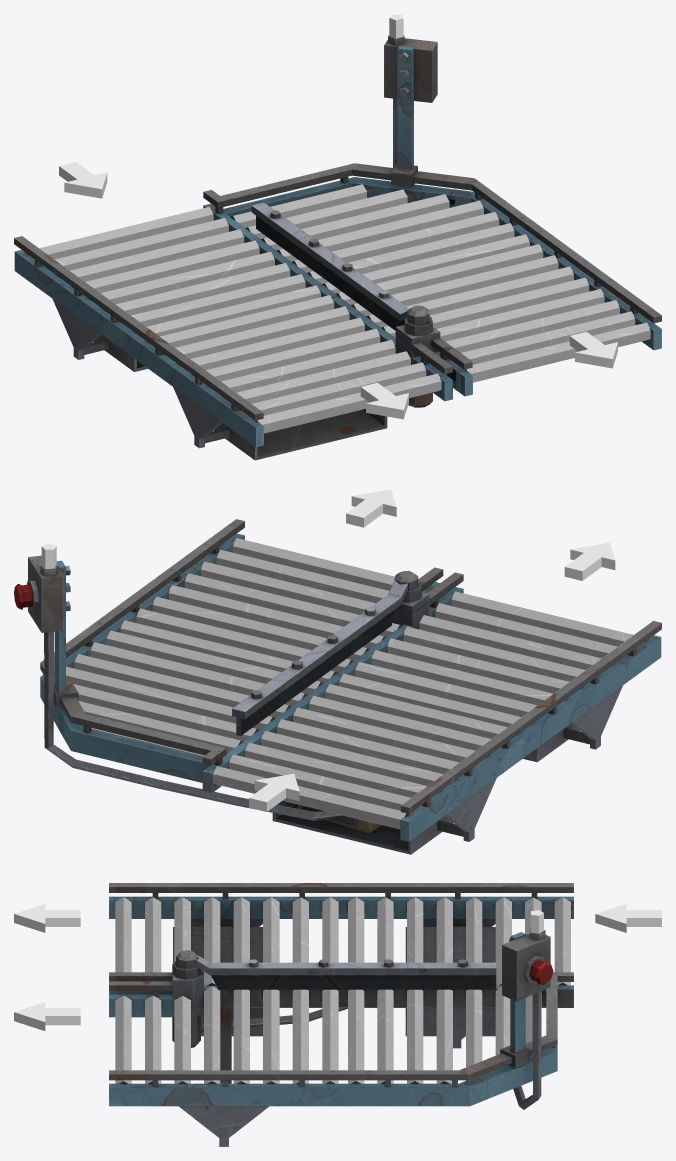
The model's file is RollerConveyorRouting_Left.glb.
3 renders of one model, top to bottom at view 1: azimuth 30°, elevation 25°; view 2: azimuth 150°, elevation 25°; view 3: azimuth 270°, elevation 25°, orthographic. The views are drawn at different scales.
Parts seen in each view (by area): view 1: RollerRoutingLeft, RollerRoutingLeft_Wiper, ghostarrow (1), ghostarrow, ghostarrow (2); view 2: RollerRoutingLeft, RollerRoutingLeft_Wiper, ghostarrow, ghostarrow (2), ghostarrow (1); view 3: RollerRoutingLeft, RollerRoutingLeft_Wiper, ghostarrow (2), ghostarrow, ghostarrow (1), RollerRoutingLeftButton.
Part boxes in pixels (x1,y1,x2,y2): RollerRoutingLeft: (14, 14, 661, 460); RollerRoutingLeft_Wiper: (251, 202, 429, 330); ghostarrow (1): (59, 162, 107, 198); ghostarrow: (360, 382, 408, 419); ghostarrow (2): (569, 332, 617, 368); RollerRoutingLeft: (27, 519, 661, 854); RollerRoutingLeft_Wiper: (232, 571, 418, 735); ghostarrow: (564, 542, 615, 580); ghostarrow (2): (346, 489, 396, 527); ghostarrow (1): (249, 773, 299, 811); RollerRoutingLeft: (109, 883, 573, 1146); RollerRoutingLeft_Wiper: (176, 950, 496, 989); ghostarrow (2): (14, 1002, 80, 1030); ghostarrow: (14, 904, 80, 932); ghostarrow (1): (595, 904, 661, 932); RollerRoutingLeftButton: (529, 960, 553, 984).
Size of the model in its own units: 1.95 by 1.03 by 2.79.
5 materials, 2 textured.
